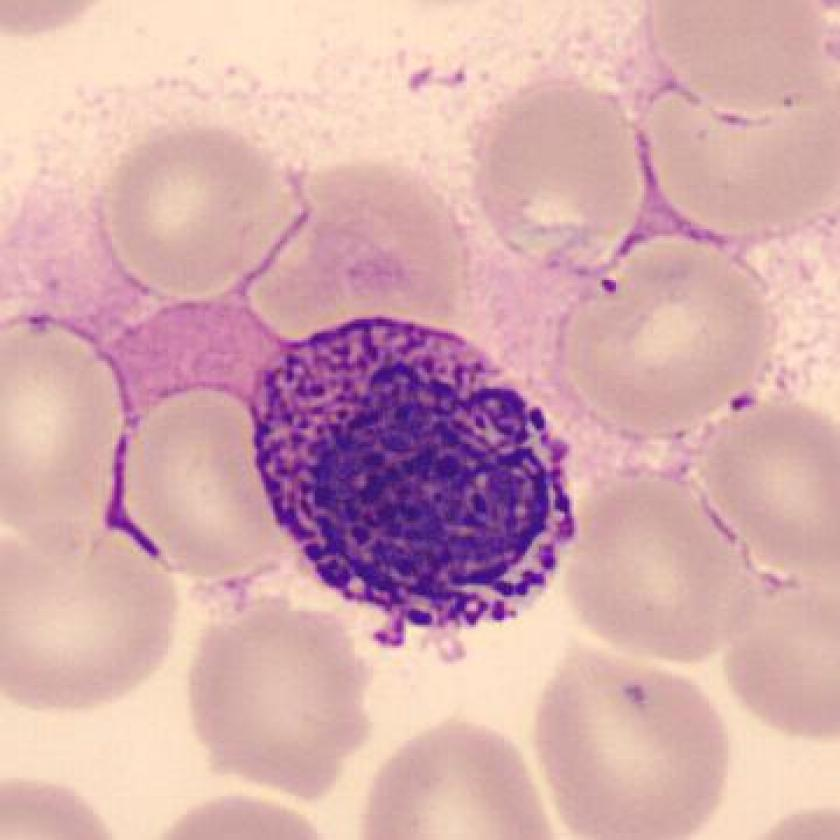basophil: (249, 300, 585, 638)
